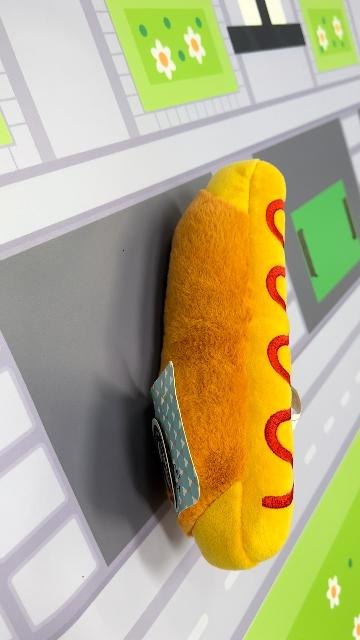hotdog: (150, 158, 296, 572)
